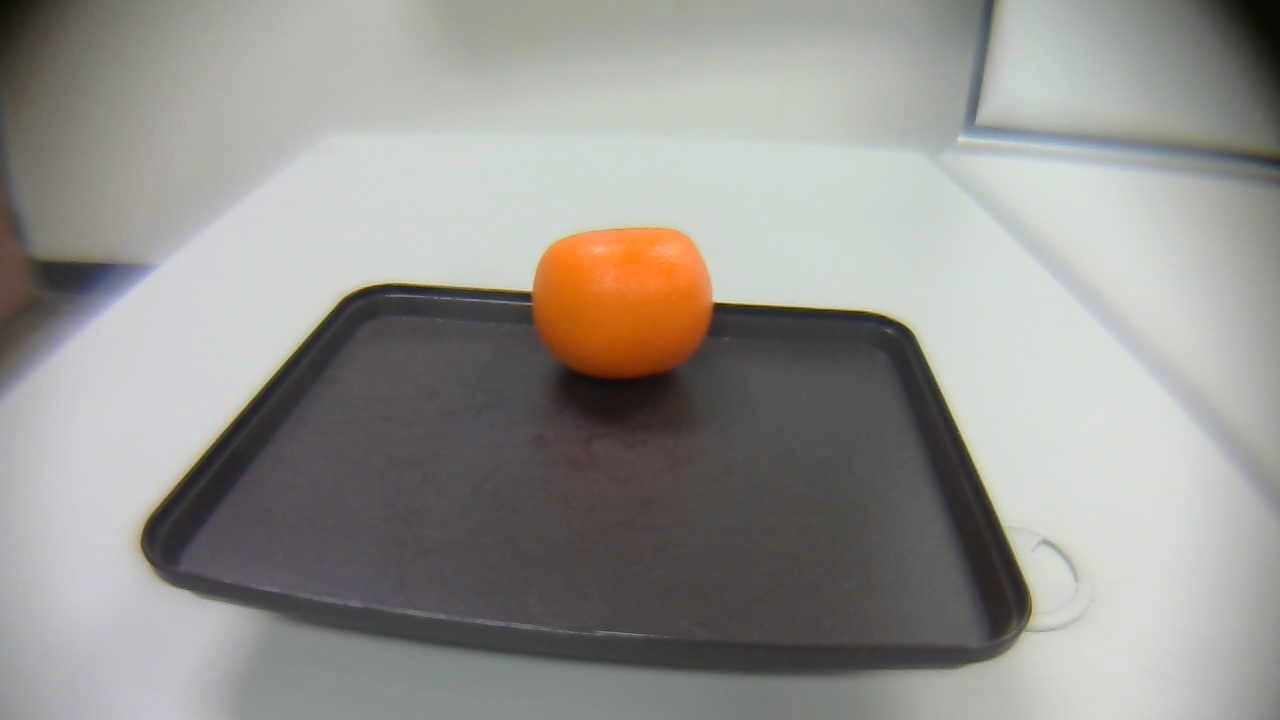orange: (520, 222, 723, 385)
